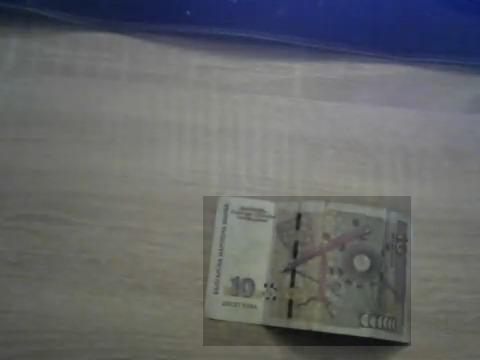10leva: (203, 196, 411, 346)
